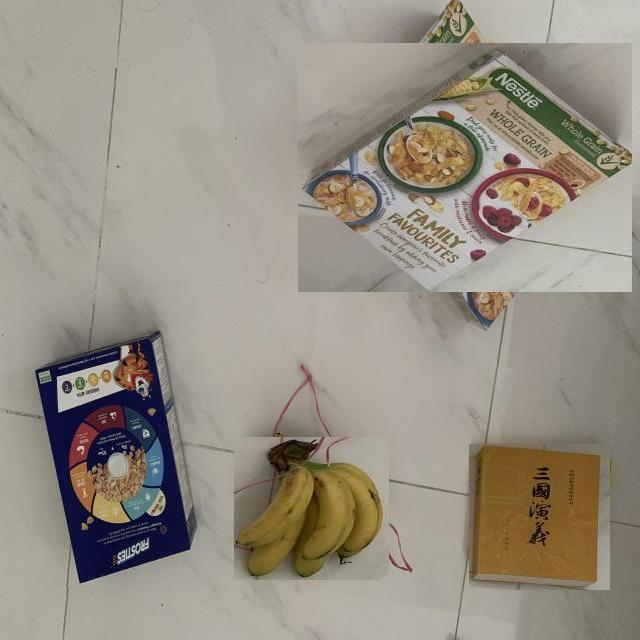Banana: (234, 436, 389, 580)
Book: (469, 443, 610, 590)
Cerealbox: (297, 43, 632, 292), (34, 328, 203, 588)
